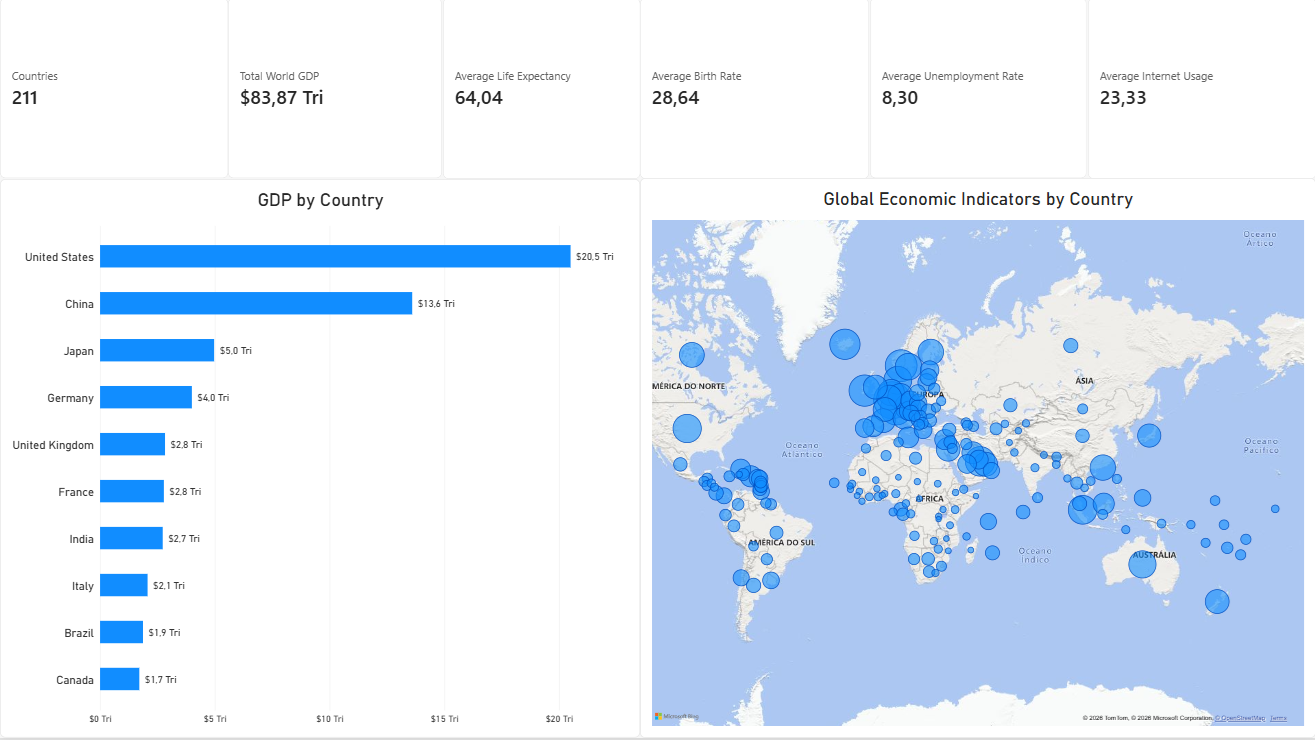

The dashboard page shown, as its layout file describes it:
{"tool":"powerbi","page":{"name":"Global Economic Overview","canvas":[1920,1080],"ordinal":0},"visuals":[{"type":"cardVisual","fields":{"Data":["Count(Development Indicators.Country Name)"]},"box":[0,0,333.8,263.6],"z":0},{"type":"cardVisual","fields":{"Data":["Development Indicators.World GDP"]},"box":[333.1,0,312.6,263.1],"z":1000},{"type":"cardVisual","fields":{"Data":["Avg(Development Indicators.Life expectancy at birth (years))"]},"box":[645.7,0,288.7,264.8],"z":2000},{"type":"cardVisual","fields":{"Data":["Avg(Development Indicators.Unemployment (% of total labor force) (modeled ILO estimate))"]},"box":[1269.7,0,316.6,263.9],"z":3000},{"type":"cardVisual","fields":{"Data":["Avg(Development Indicators.Individuals using the Internet (% of population))"]},"box":[1586.9,0,333.1,264.8],"z":4000},{"type":"cardVisual","fields":{"Data":["Avg(Development Indicators.Birth rate, crude (per 1,000 people))"]},"box":[934.4,0,334,264],"z":5000},{"type":"map","title":"Global Economic Indicators by Country","fields":{"Category":["Development Indicators.Country Name"],"Size":["Development Indicators.GDP per Capita"]},"box":[934.4,263.1,985.6,816.5],"z":6000},{"type":"barChart","title":"GDP by Country","fields":{"Category":["Development Indicators.Country Name"],"Y":["Development Indicators.World GDP"]},"box":[0,264.8,934.4,814.8],"z":7000}]}

Visuals, with their boxes in screenshot pixels (x1, y1, x2, y2), scaled from the page's 1920x1080 canvas onto the 1315x740 screenshot:
cardVisual - Count(Development Indicators.Country Name): bbox=(0, 0, 229, 181)
cardVisual - Development Indicators.World GDP: bbox=(228, 0, 442, 180)
cardVisual - Avg(Development Indicators.Life expectancy at birth (years)): bbox=(442, 0, 640, 181)
cardVisual - Avg(Development Indicators.Unemployment (% of total labor force) (modeled ILO estimate)): bbox=(870, 0, 1086, 181)
cardVisual - Avg(Development Indicators.Individuals using the Internet (% of population)): bbox=(1087, 0, 1314, 181)
cardVisual - Avg(Development Indicators.Birth rate, crude (per 1,000 people)): bbox=(640, 0, 869, 181)
"Global Economic Indicators by Country" map: bbox=(640, 180, 1314, 739)
"GDP by Country" barChart: bbox=(0, 181, 640, 739)
